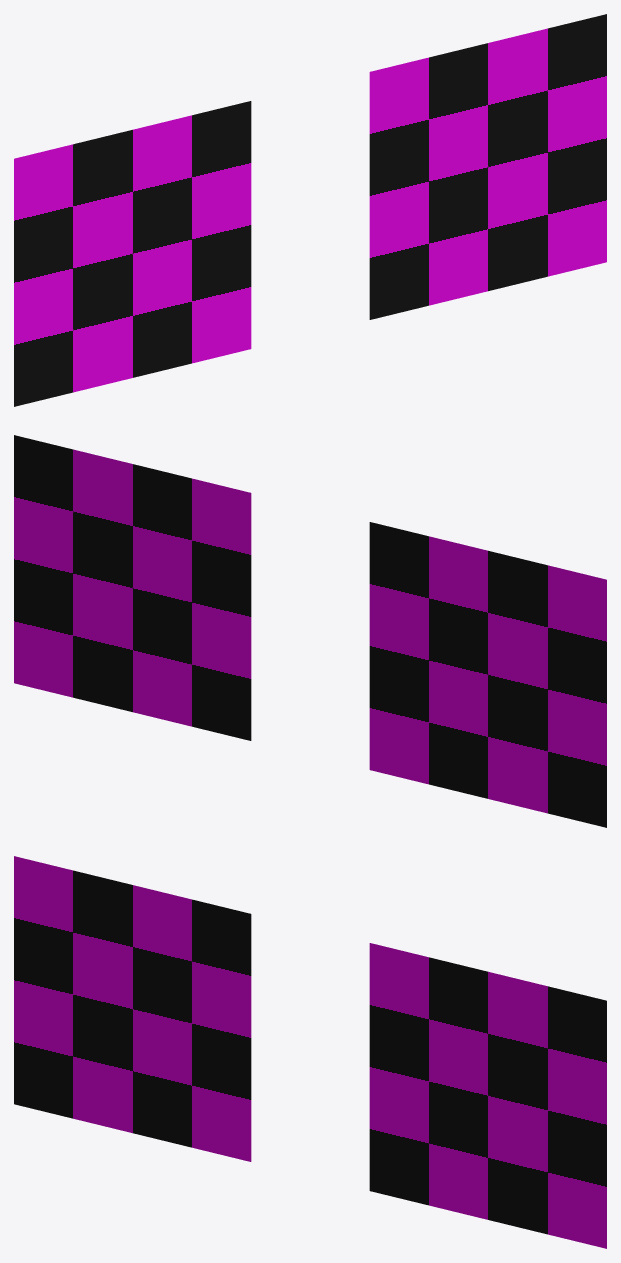
3 renders of one model, top to bottom at view 1: azimuth 30°, elevation 25°; view 2: azimuth 150°, elevation 25°; view 3: azimuth 330°, elevation 25°, orthographic.
Visible parts, largest first — view 1: quad_left, quad_right; view 2: quad_left, quad_right; view 3: quad_left, quad_right.
Boxes of the visible parts, x1,y1,x2,y2 form: quad_left: (14, 101, 251, 406); quad_right: (369, 14, 606, 319); quad_left: (369, 522, 606, 827); quad_right: (14, 435, 251, 740); quad_left: (14, 856, 251, 1161); quad_right: (369, 943, 606, 1248).
Size of the model in its own units: 2.5 by 1 by 0.
2 materials, 2 textured.
